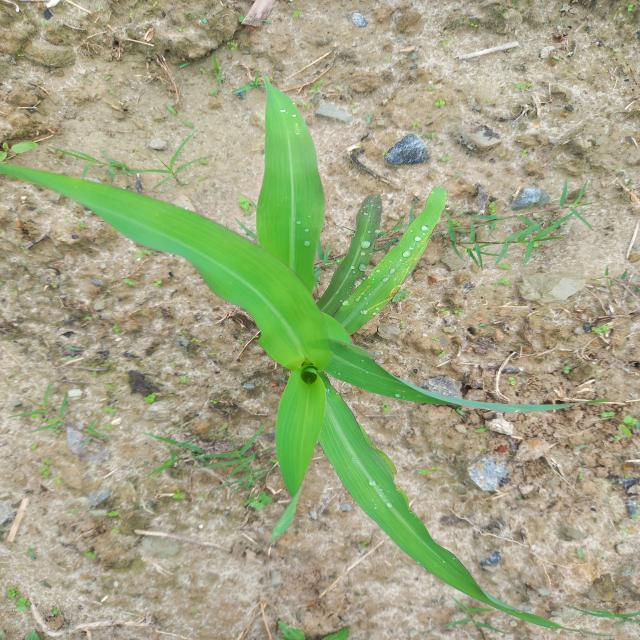maize: (4, 72, 607, 618)
weed: (123, 426, 292, 504), (441, 190, 610, 266), (103, 126, 220, 197)
